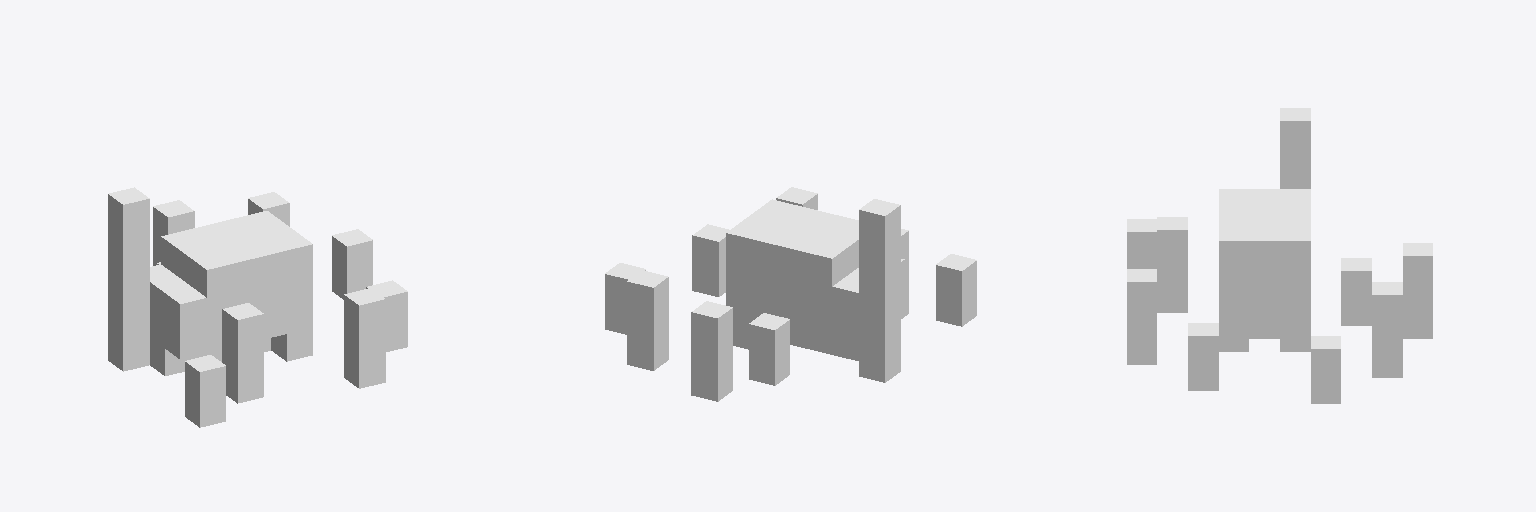
The model's file is grass-montain8.obj.
3 renders of one model, left to right at view 1: azimuth 30°, elevation 25°; view 2: azimuth 150°, elevation 25°; view 3: azimuth 270°, elevation 25°, orthographic.
Visible parts, largest first — view 1: object 1; view 2: object 1; view 3: object 1.
Part boxes in pixels (x1,y1,x2,y2): object 1: (108,187,407,427); object 1: (605,187,976,401); object 1: (1127,108,1432,403).
Bounding box in the file's own units: 1 × 0.6 × 1.